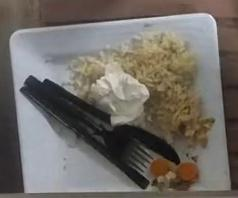carrots: (150, 158, 198, 190)
rice: (70, 33, 215, 146)
